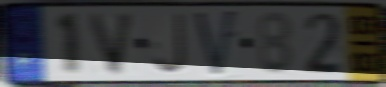1: (55, 10, 82, 78)
2: (303, 11, 344, 76)
8: (256, 9, 296, 78)
J: (151, 11, 189, 77)
V: (87, 10, 139, 78), (192, 7, 239, 81)
